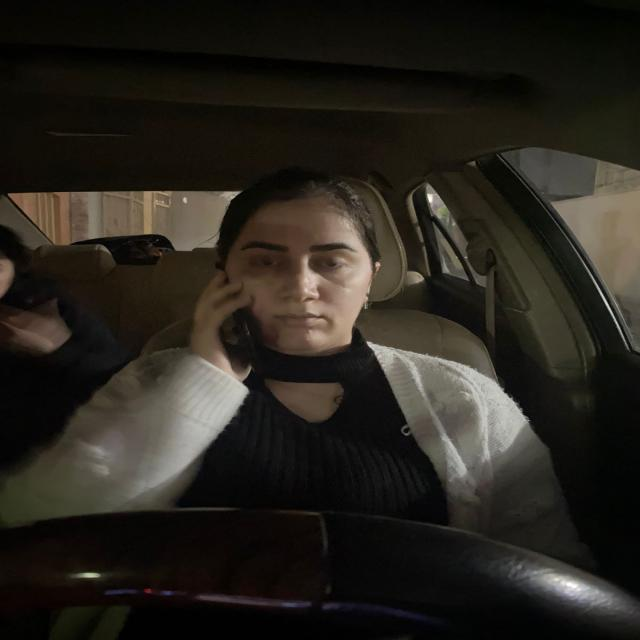mobile: (224, 312, 267, 368)
person: (217, 167, 384, 360)
